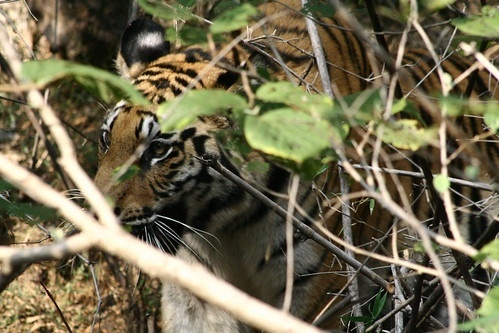tigre: (87, 1, 332, 331)
